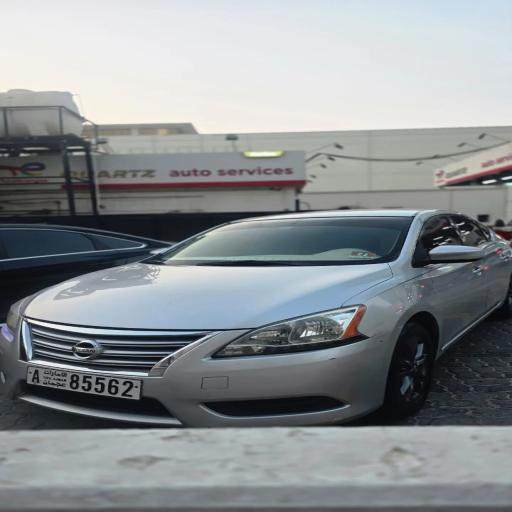license-plates: (27, 366, 141, 400)
